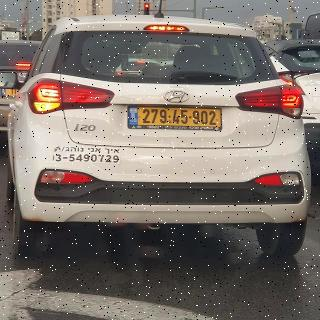LicensePlate: (138, 108, 221, 127)
